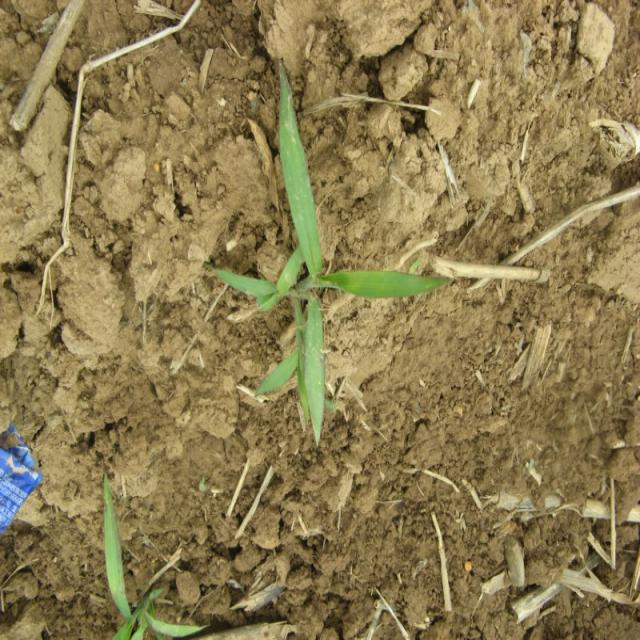bg: (211, 63, 446, 443)
